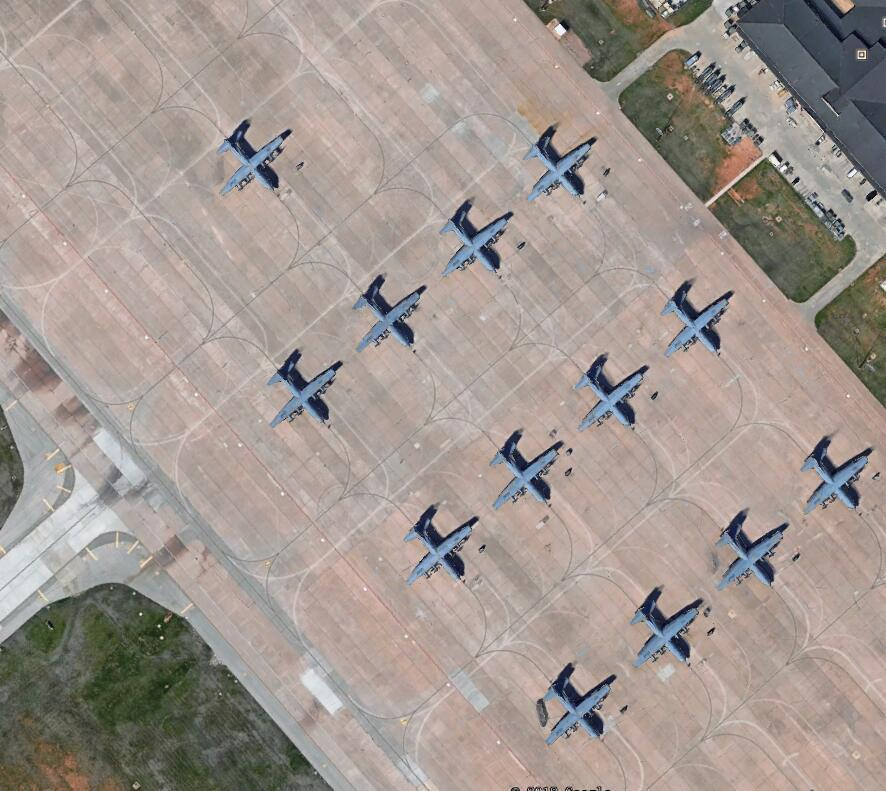A2: (430, 189, 522, 281), (532, 659, 619, 747), (257, 345, 343, 430), (480, 425, 566, 510), (208, 112, 290, 200), (348, 271, 433, 354), (398, 500, 480, 586), (656, 274, 739, 358), (626, 586, 709, 670), (568, 347, 651, 430), (795, 437, 874, 515), (520, 123, 598, 200), (713, 514, 792, 590)
